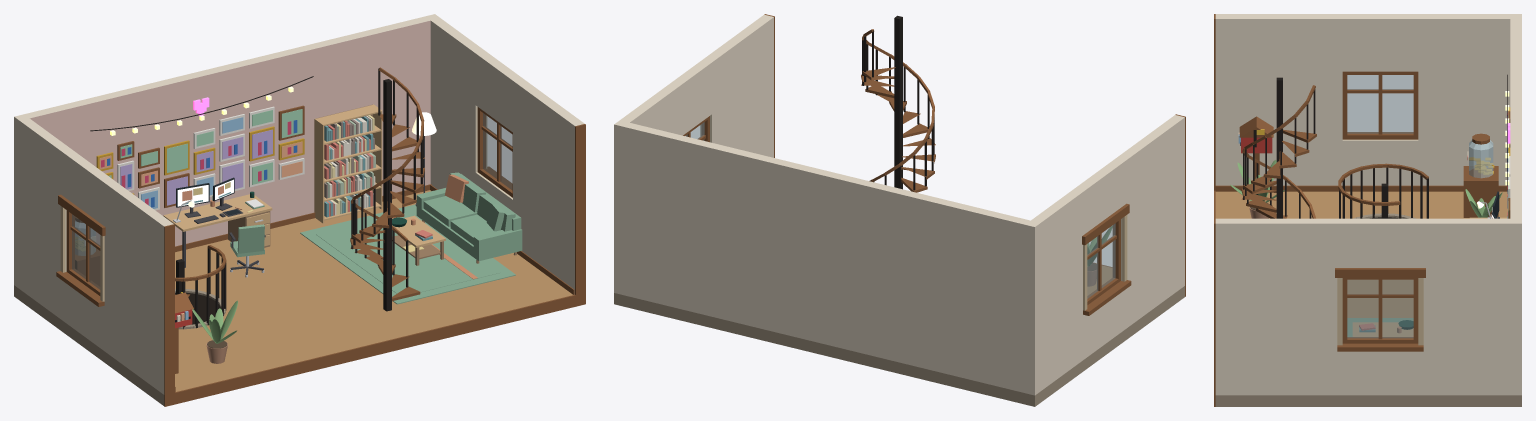
Rendered from map-memory.glb.
3 renders of one model, left to right at view 1: azimuth 30°, elevation 25°; view 2: azimuth 150°, elevation 25°; view 3: azimuth 270°, elevation 25°, orthographic. The views are drawn at different scales.
Visible parts, largest first — view 1: Walls, Floor_Slab, Memory_Wall, Bookshelf, Living_Rug, Stair_Up, Sofa, Desk, Windows_Glass, Stairwell_Down, Coffee_Table, Desk_Chair (+4 smaller); view 2: Walls, Floor_Slab, Stair_Up, Windows_Glass; view 3: Walls, Floor_Slab, Windows_Glass, Stair_Up, Stairwell_Down, Savings_Jar, Mailbox, Coffee_Table, Plant_Stairs, Memory_Wall, Living_Rug, Plant_Loft_B (+2 smaller).
Boxes of the visible parts, box(x1,y1,x2,y2) form: Walls: box(14, 14, 585, 406); Floor_Slab: box(14, 190, 572, 405); Memory_Wall: box(96, 97, 304, 210); Bookshelf: box(314, 104, 382, 223); Living_Rug: box(300, 204, 515, 304); Stair_Up: box(350, 67, 424, 311); Sofa: box(416, 172, 522, 263); Desk: box(163, 177, 272, 267); Windows_Glass: box(72, 113, 512, 289); Stairwell_Down: box(175, 245, 226, 329); Coffee_Table: box(392, 215, 445, 265); Desk_Chair: box(229, 224, 265, 277); Walls: box(614, 14, 1185, 395); Floor_Slab: box(614, 265, 1184, 406); Stair_Up: box(861, 15, 935, 192); Windows_Glass: box(685, 122, 1115, 298); Walls: box(1214, 14, 1521, 406); Floor_Slab: box(1215, 191, 1521, 406); Windows_Glass: box(1347, 75, 1413, 338); Stair_Up: box(1241, 77, 1316, 218); Stairwell_Down: box(1338, 163, 1428, 218); Savings_Jar: box(1463, 133, 1498, 217); Mailbox: box(1238, 116, 1273, 178); Coffee_Table: box(1352, 320, 1413, 336); Plant_Stairs: box(1230, 160, 1284, 218); Memory_Wall: box(1507, 107, 1510, 218); Living_Rug: box(1347, 318, 1413, 336); Plant_Loft_B: box(1465, 189, 1502, 217).
Bounding box in the file's own units: 8.74 × 4.64 × 5.28.
